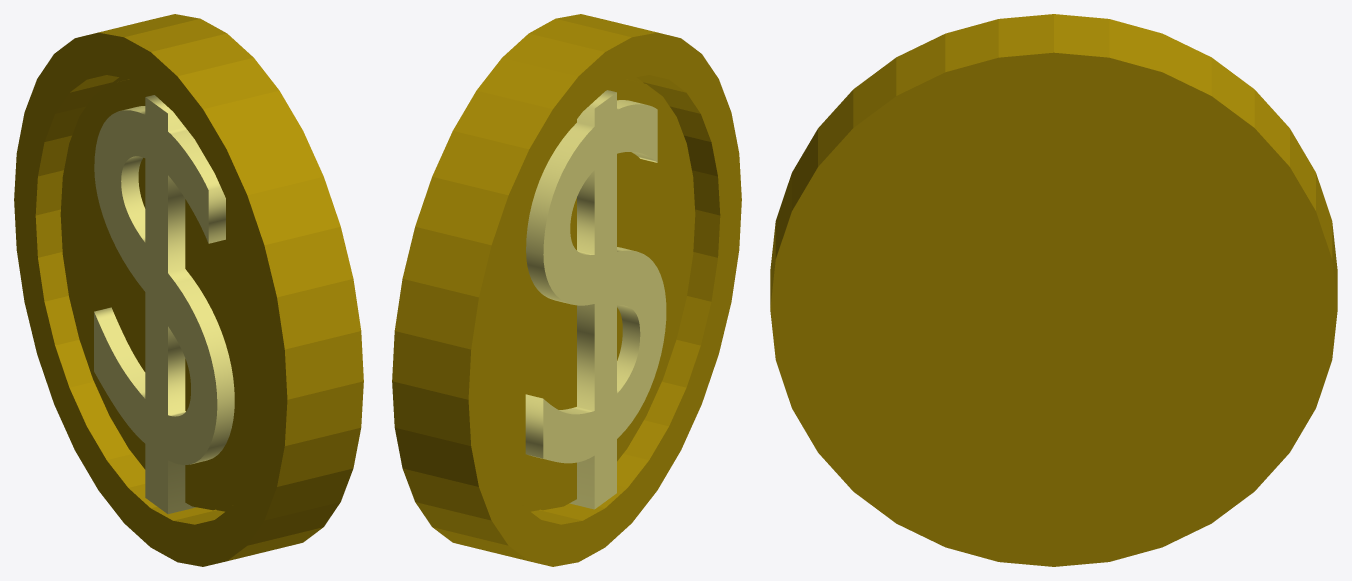
Rendered from Moneda.fbx.
3 views of the same model, side by side, from view 1: azimuth 30°, elevation 25°; view 2: azimuth 150°, elevation 25°; view 3: azimuth 270°, elevation 25° (orthographic). The views are drawn at different scales.
Visible parts, largest first — view 1: MONEDA, Simbolo; view 2: MONEDA, Simbolo; view 3: MONEDA.
Boxes of the visible parts, x1,y1,x2,y2 form: MONEDA: (14, 14, 363, 566); Simbolo: (94, 95, 234, 514); MONEDA: (392, 14, 741, 566); Simbolo: (525, 90, 666, 509); MONEDA: (770, 14, 1337, 566).
Size of the model in its own units: 16.15 by 100 by 100.
2 materials, 1 textured.
